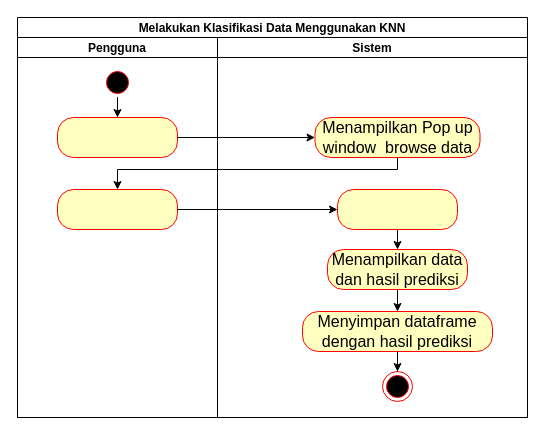
Some shapes in this 545 by 435 pixel diagram are drawn without their labels. Each missing label, with the centre of its shape:
Klik tombol Predict: (117,137)
Memilih file data: (117,209)
Memprediksi kelas data: (397,209)
